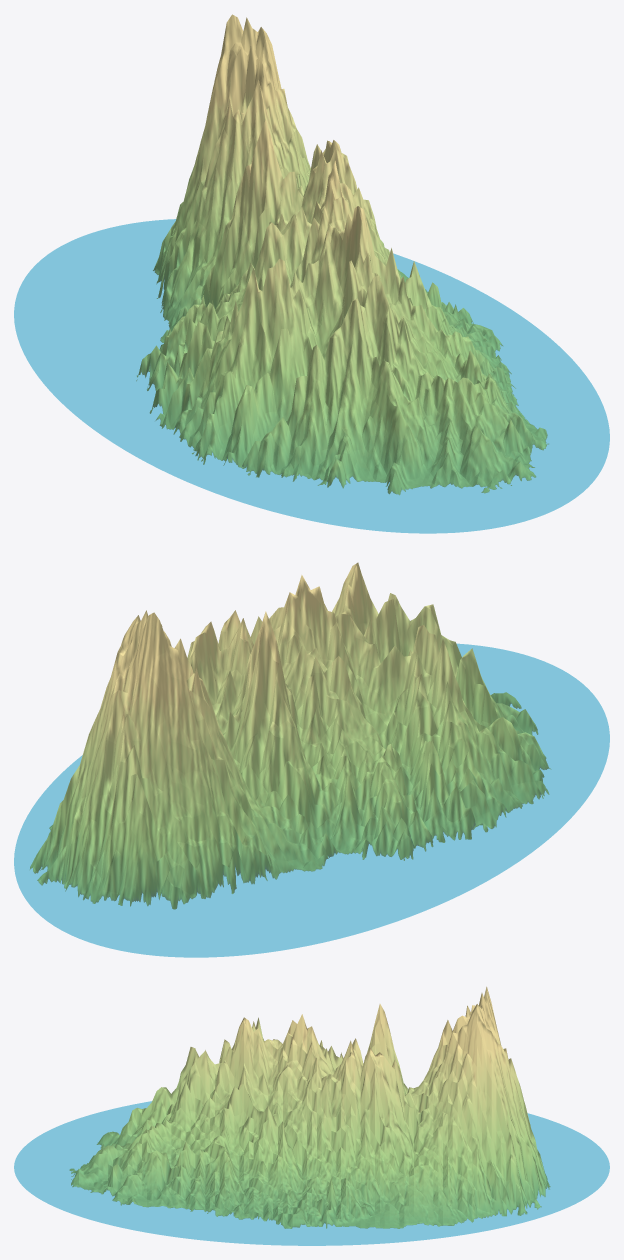
Rendered from VCT-terrain.glb.
The picture shows the model from 3 angles, top to bottom: view 1: azimuth 30°, elevation 25°; view 2: azimuth 150°, elevation 25°; view 3: azimuth 270°, elevation 25°; orthographic projection. The views are drawn at different scales.
Parts seen in each view (by area): view 1: Relevo com hidrografia; view 2: Relevo com hidrografia; view 3: Relevo com hidrografia.
Part boxes in pixels (left/top/right/bottom): Relevo com hidrografia: left=14, top=14, right=609, bottom=533; Relevo com hidrografia: left=14, top=562, right=609, bottom=957; Relevo com hidrografia: left=14, top=986, right=609, bottom=1245.
Size of the model in its own units: 1.24 by 0.7203 by 1.99.
Materials: 2 (1 with a texture image).
